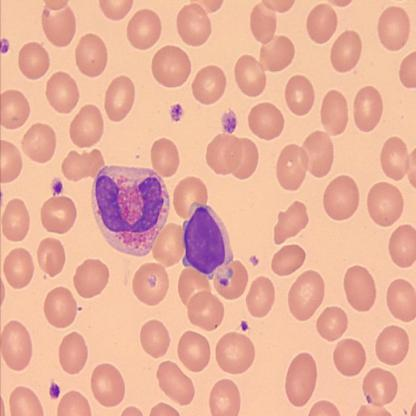Eosinophil: (93, 165, 175, 258)
